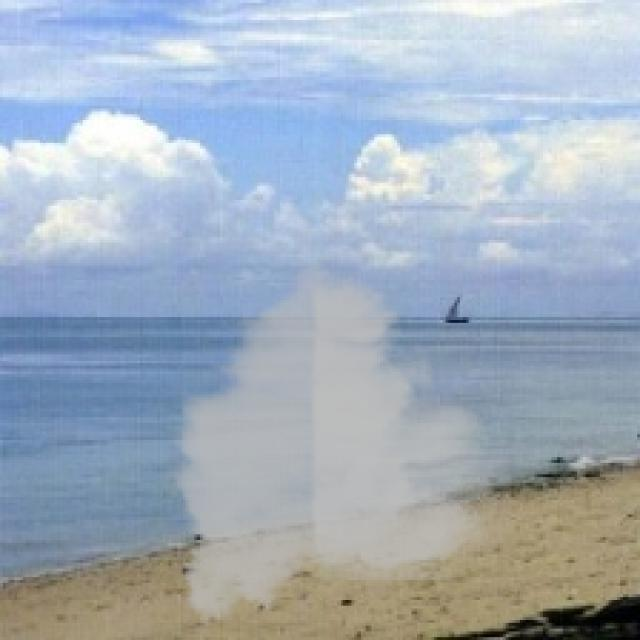Smoke: (160, 252, 514, 637)
